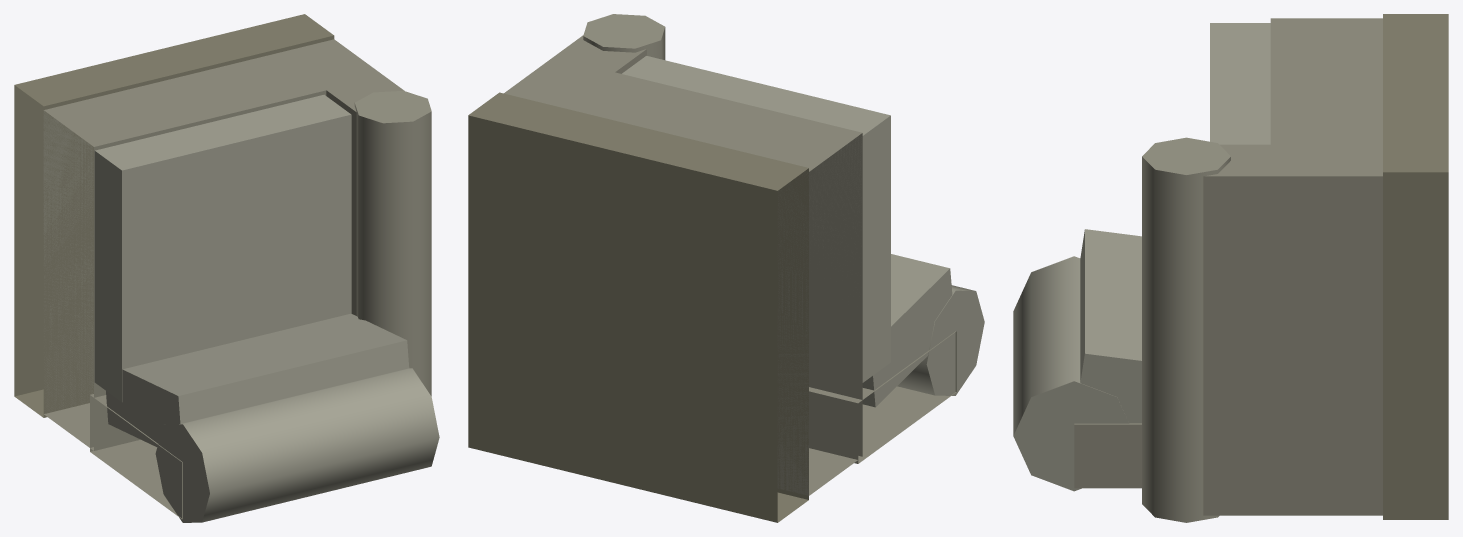
File: section-1.obj
3 views of the same model, side by side, from view 1: azimuth 30°, elevation 25°; view 2: azimuth 150°, elevation 25°; view 3: azimuth 270°, elevation 25° (orthographic). The views are drawn at different scales.
Size of the model in its own units: 0.815 by 0.83 by 0.93.
1 material, 1 textured.
